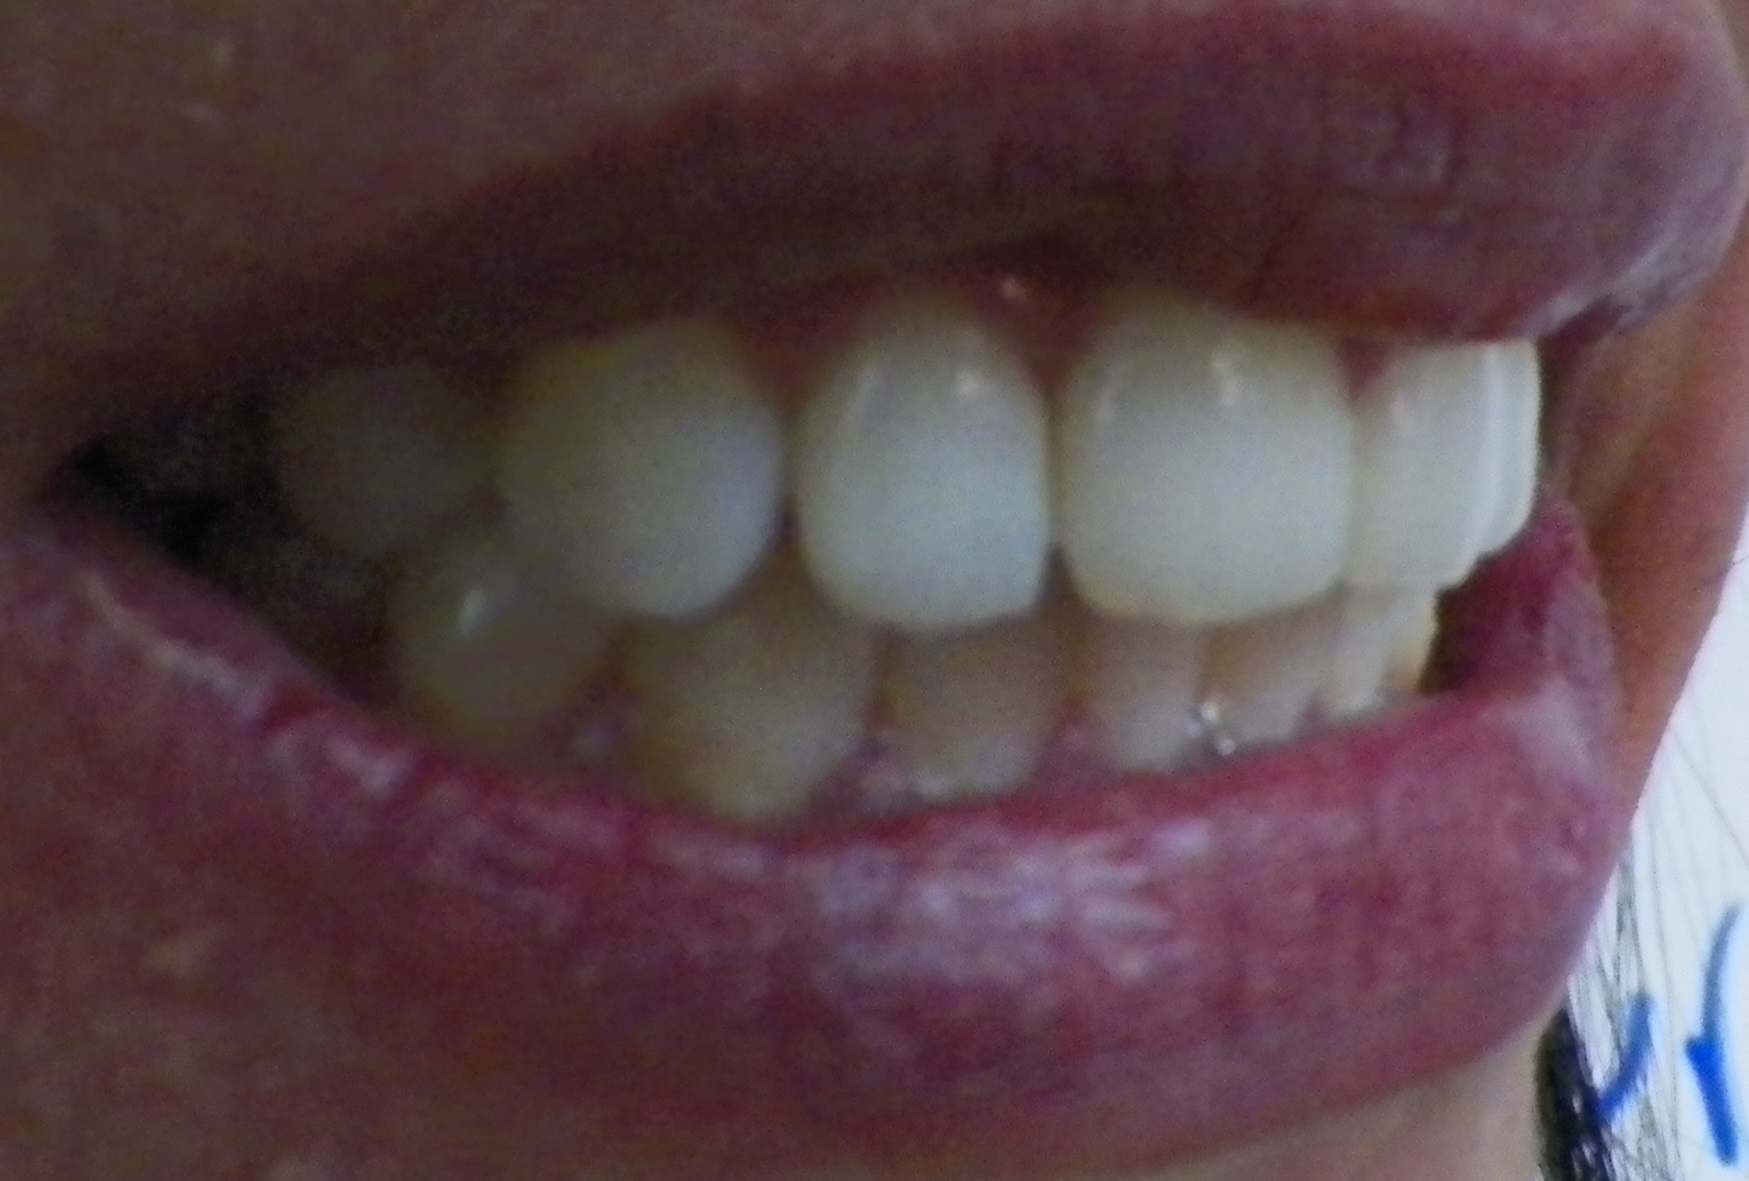boca: (162, 318, 1586, 788)
